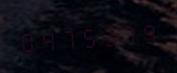five: (77, 20, 96, 52)
four: (37, 23, 56, 55)
nine: (137, 16, 156, 48)
seven: (117, 17, 136, 49), (57, 22, 76, 53)
three: (97, 19, 116, 50)
zero: (17, 24, 36, 56)
